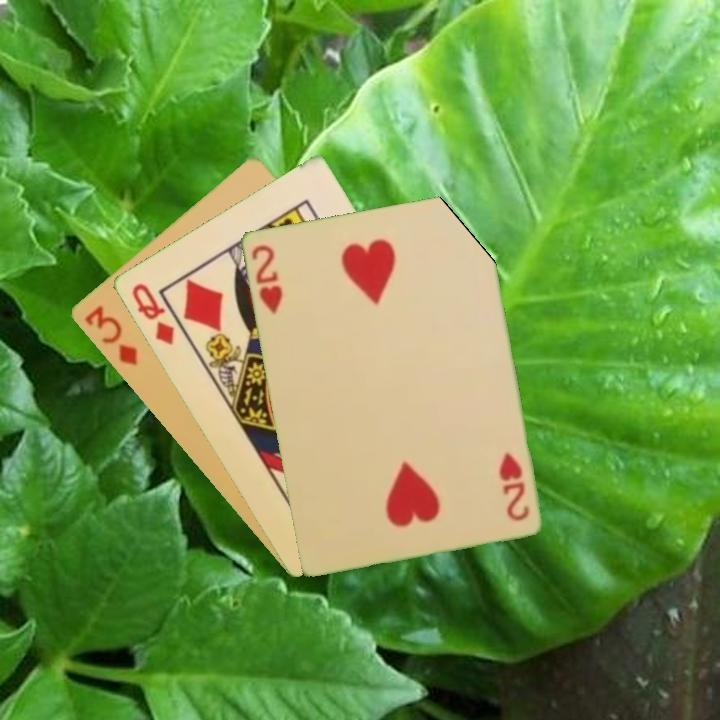2h: (247, 241, 285, 316), (495, 448, 532, 524)
3d: (79, 301, 140, 368)
Qd: (127, 279, 177, 349)
